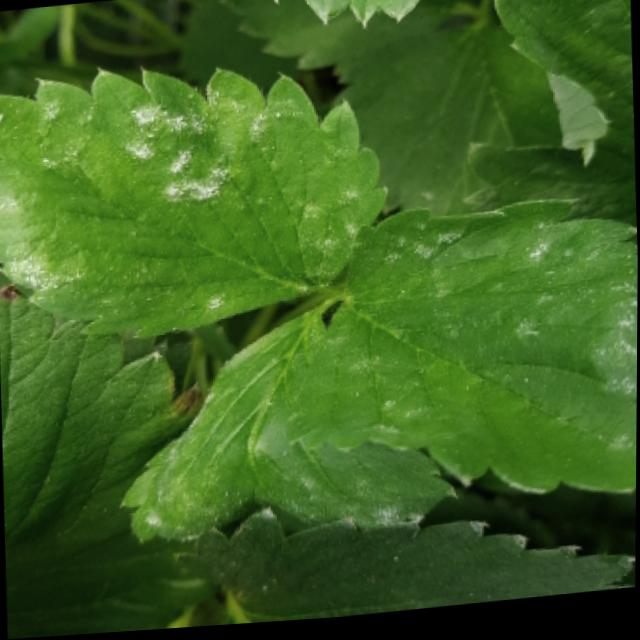Powdery Mildew Leaf: (285, 202, 638, 508), (0, 66, 389, 342), (117, 298, 459, 549), (270, 0, 428, 33)
